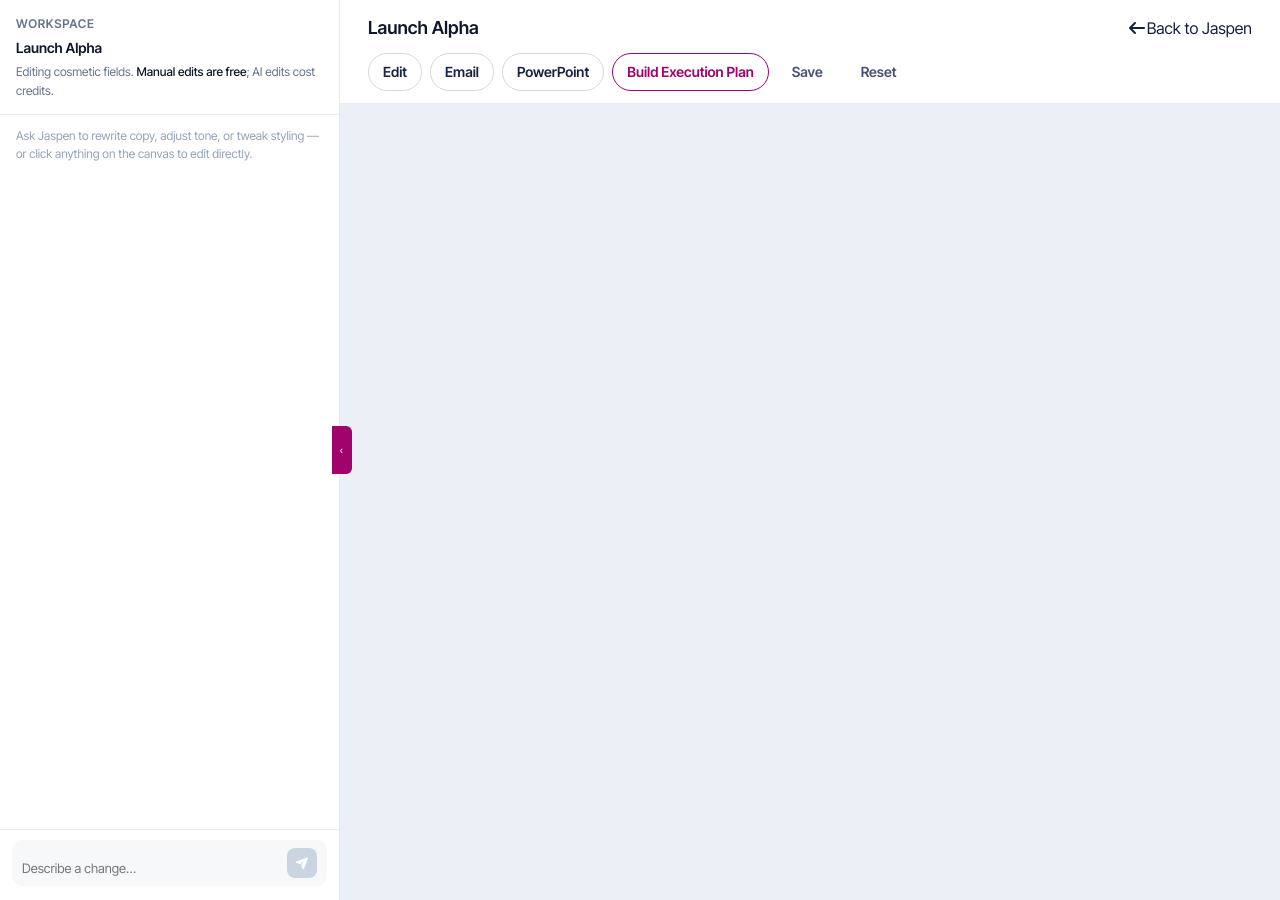
Test: shows the failure band with Retry without adding a sidebar chat message
Type "Build an execution plan" into the text box with placeholder "Describe a change…" at (152, 869), box [22,859,281,878]
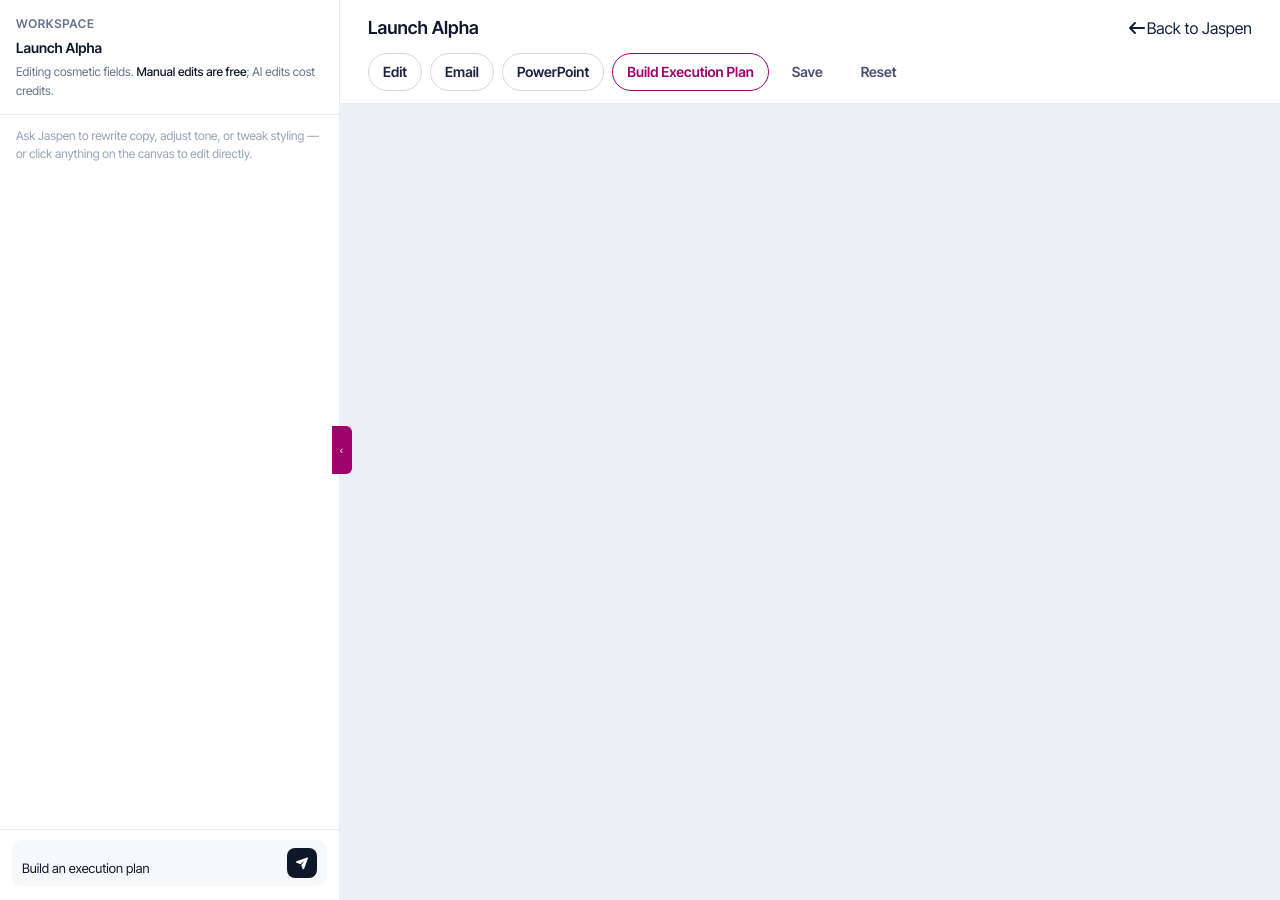
Click the button named "Send" at (302, 863), box [287,848,317,878]
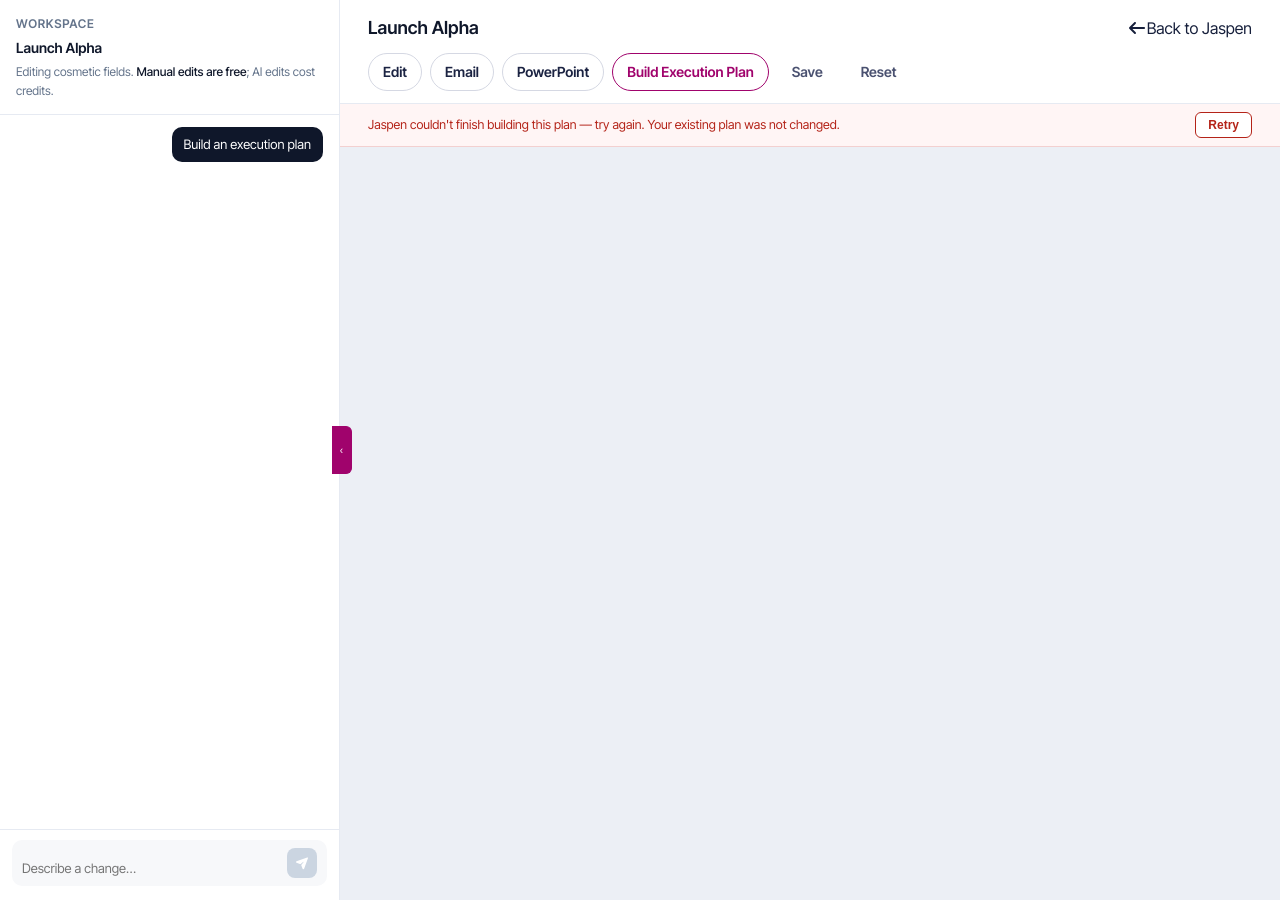
Expected: the button "Retry" is shown, [1195,112,1252,138]
